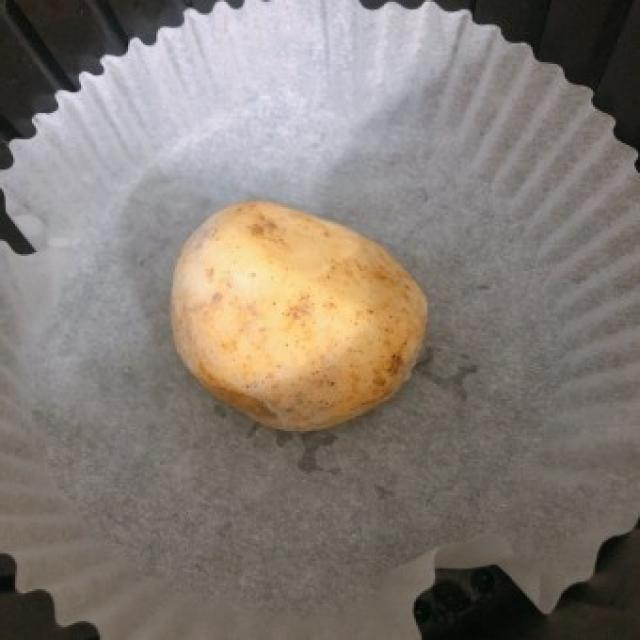potato: (174, 192, 426, 428)
